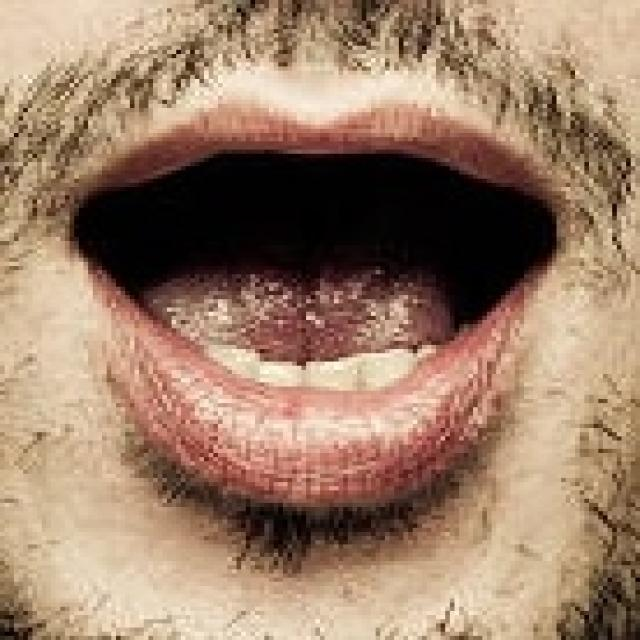open-mouth: (61, 96, 570, 516)
